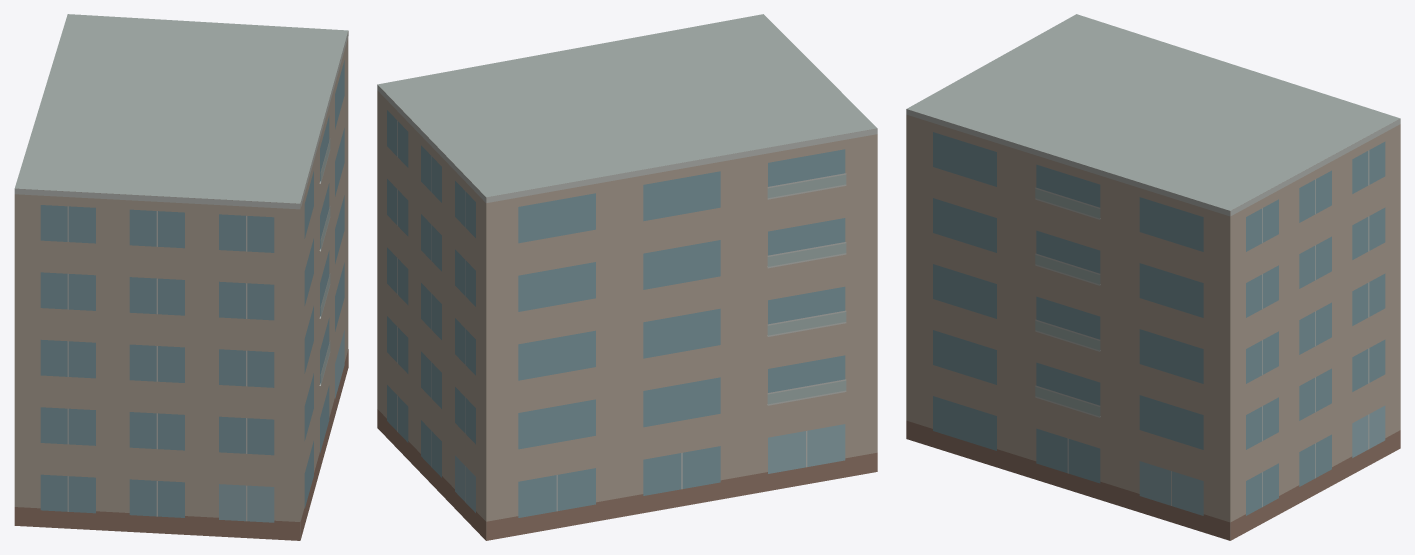
The model's file is survey-upis-32975103.glb.
The picture shows the model from 3 angles, left to right: view 1: azimuth 30°, elevation 25°; view 2: azimuth 150°, elevation 25°; view 3: azimuth 270°, elevation 25°; orthographic projection. The views are drawn at different scales.
Parts seen in each view (by area): view 1: survey-upis-32975103.tmp; view 2: survey-upis-32975103.tmp; view 3: survey-upis-32975103.tmp.
Boxes of the visible parts, x1=… form: survey-upis-32975103.tmp: x1=14, y1=14, x2=348, y2=540; survey-upis-32975103.tmp: x1=377, y1=14, x2=877, y2=540; survey-upis-32975103.tmp: x1=906, y1=14, x2=1400, y2=540.
Bounding box in the file's own units: 18.44 × 14.4 × 19.55.
